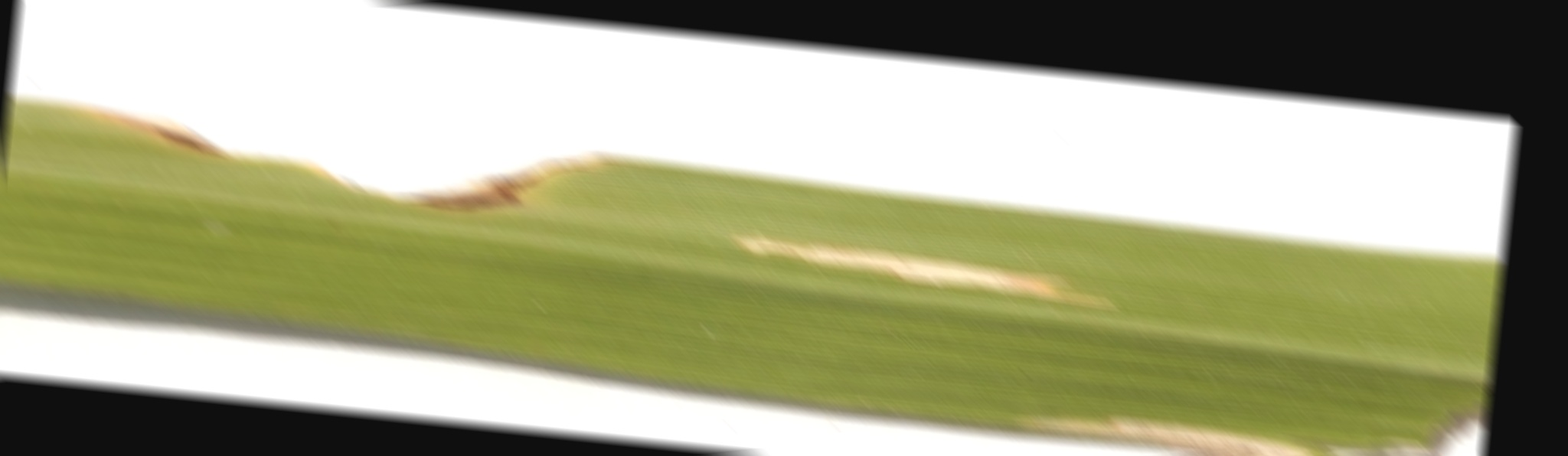Leaf_Blast: (644, 222, 1303, 359)
